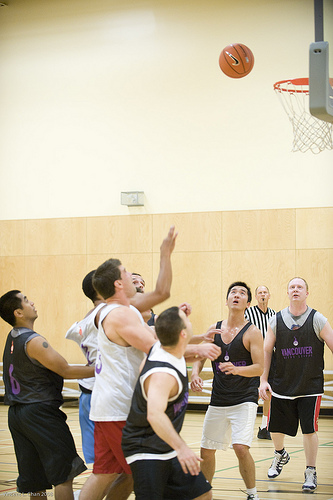basketball: (220, 44, 256, 79)
